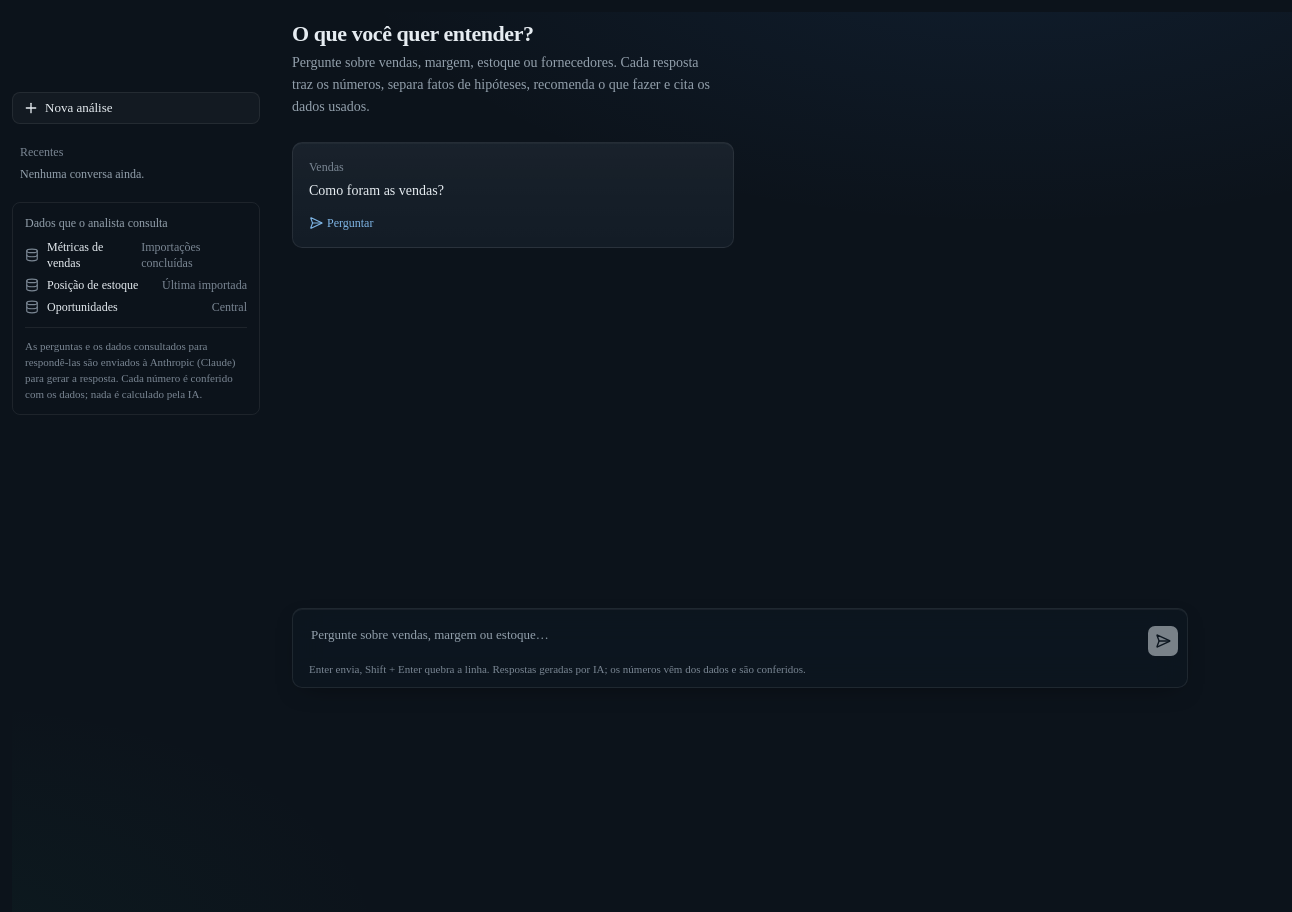
analista ao vivo › erro do servidor (limite, configuração) aparece como aviso na conversa
This screenshot has width=1292, height=912.
What coordinates should you click on to do the following:
click the button "Vendas Como foram as vendas? Perguntar"
I would click on:
 (326, 167)
Its box is [292,142,734,248].
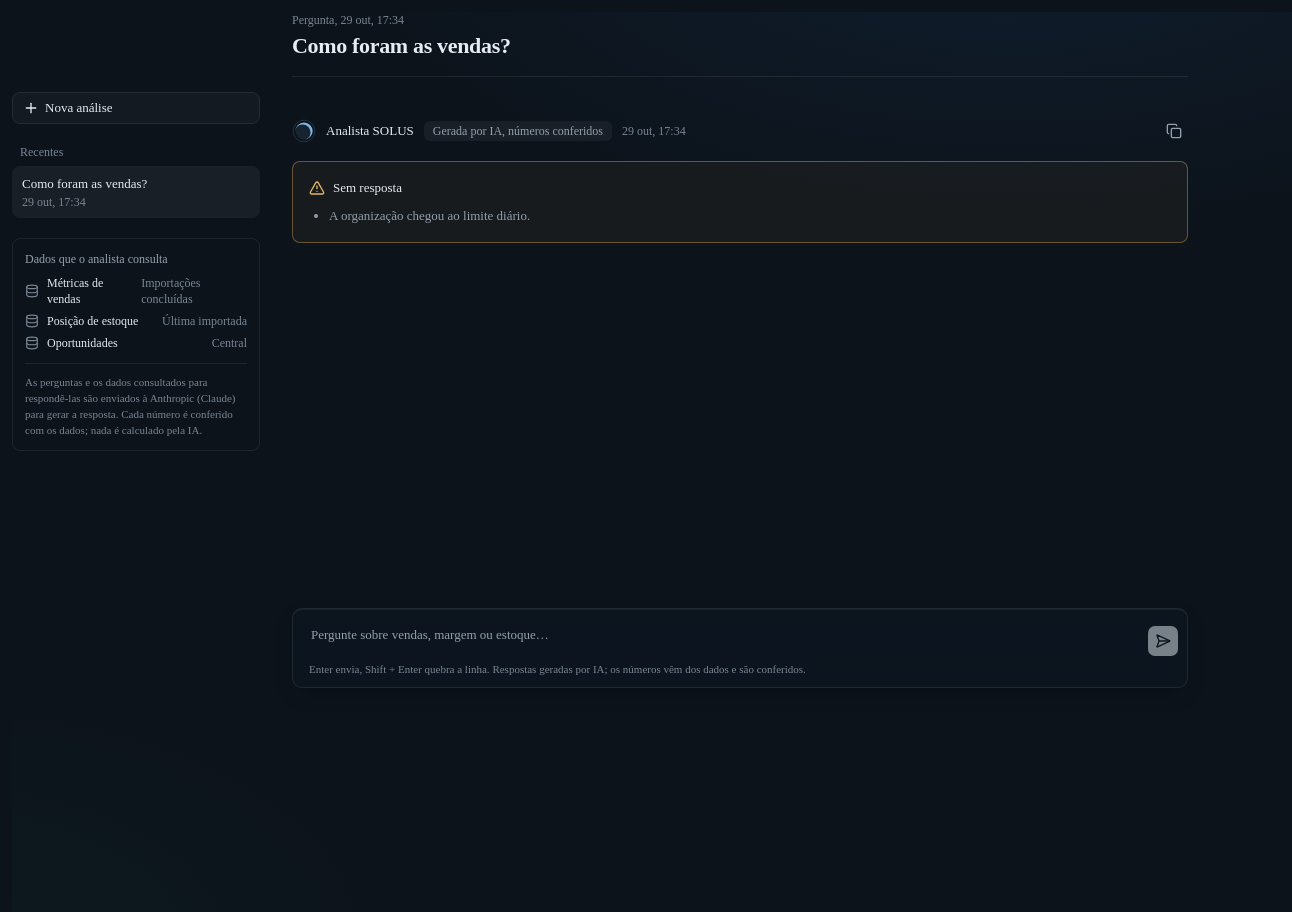
Check: the text box named "Pergunta para o analista" is enabled, box [301,617,1139,657]
Check: the list item "A organização chegou ao limite diário." is shown, box [329,208,530,223]
